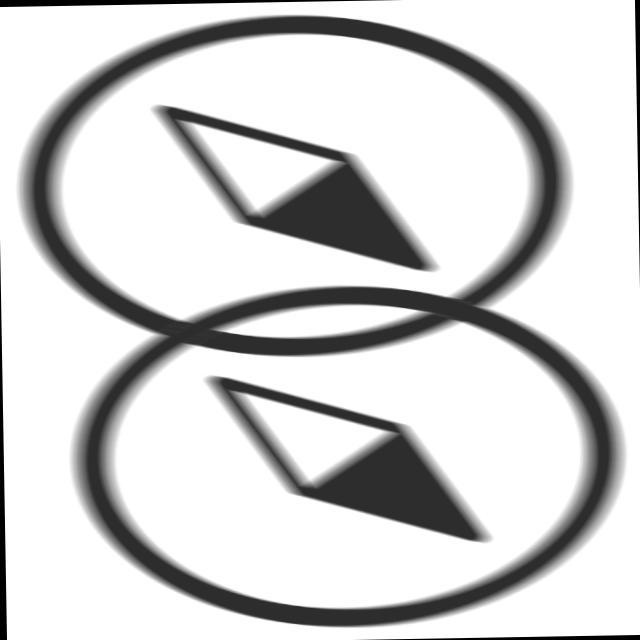compass: (1, 1, 590, 372), (52, 273, 638, 640)
